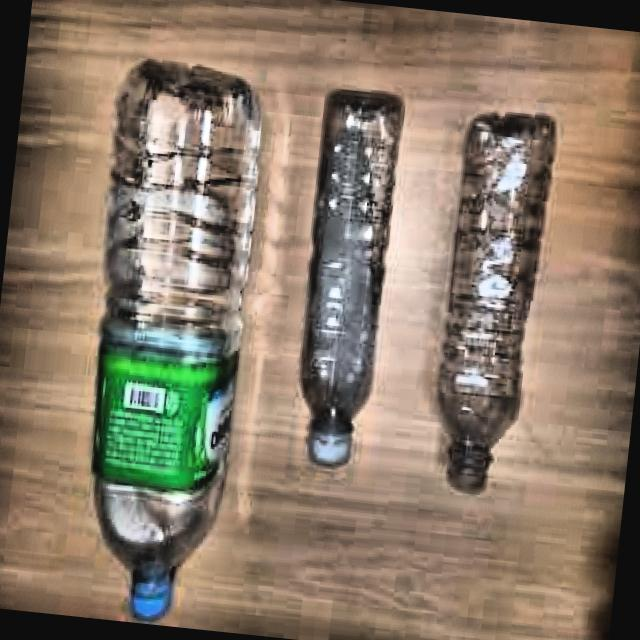plastic bottle: (92, 61, 262, 620), (438, 116, 557, 493), (301, 89, 405, 465)
